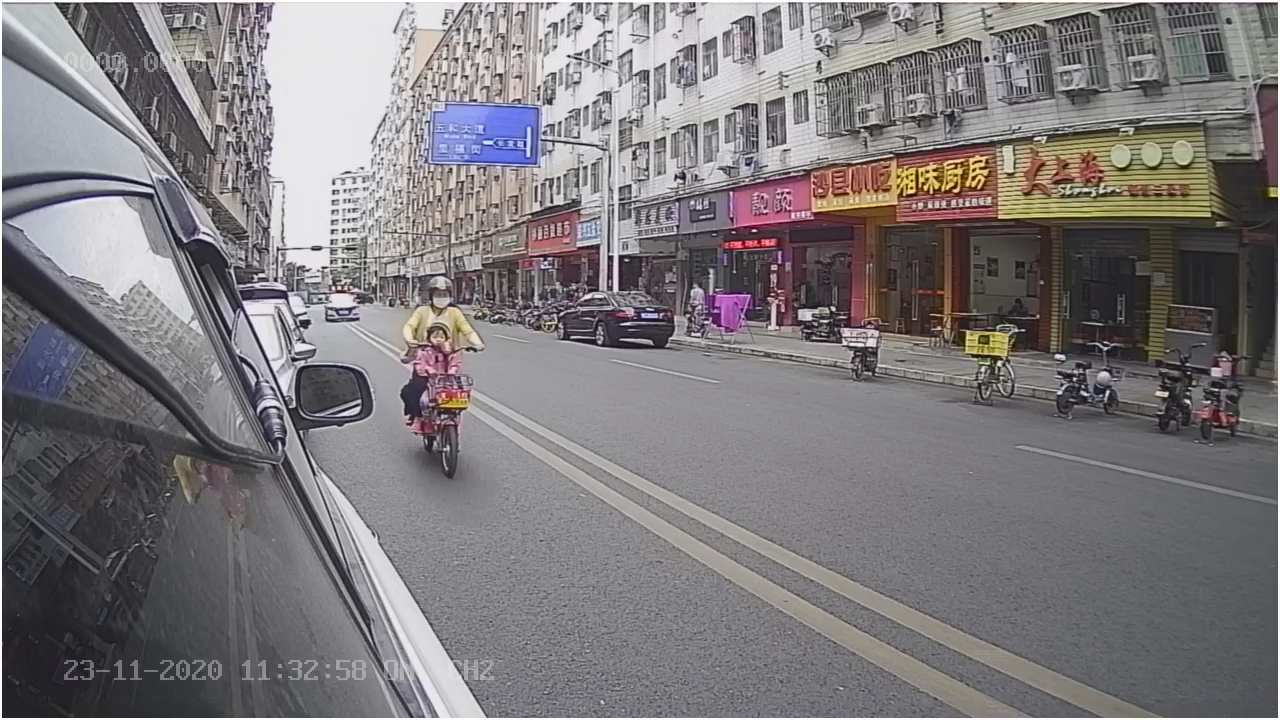person: (403, 274, 477, 347)
